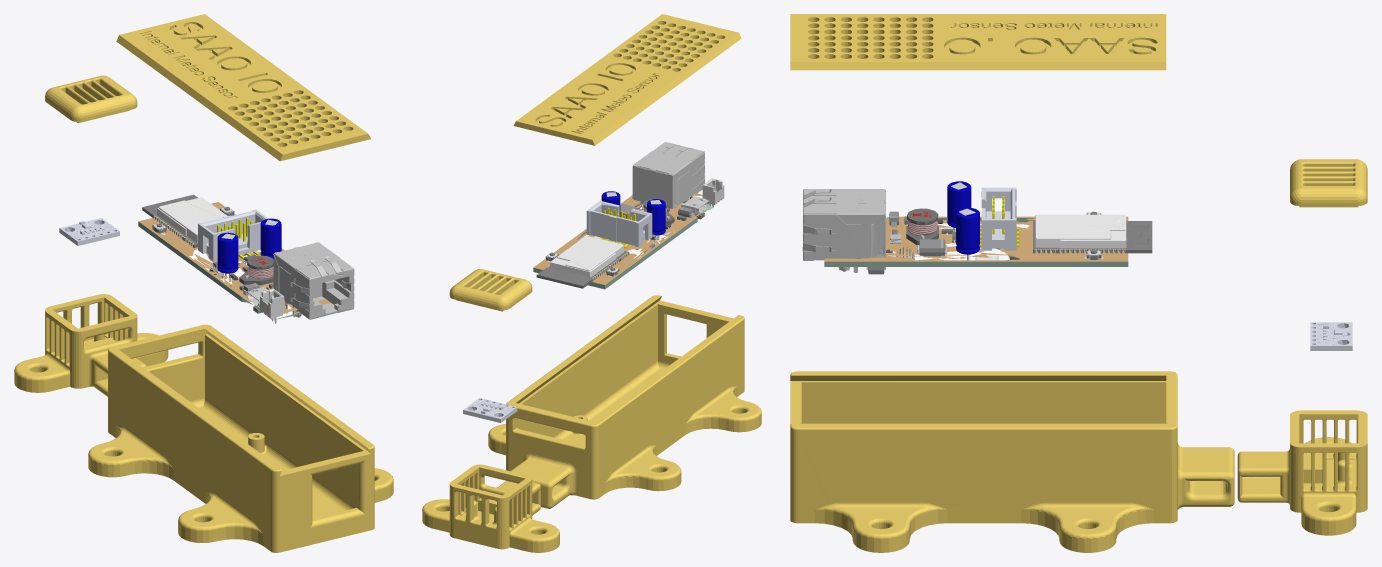
The model's file is node-exploded.glb.
The picture shows the model from 3 angles, left to right: view 1: azimuth 30°, elevation 25°; view 2: azimuth 150°, elevation 25°; view 3: azimuth 270°, elevation 25°; orthographic projection. The views are drawn at different scales.
Visible parts, largest first — view 1: Plastic_-_Matte_(Yellow), Steel_-_Satin, Opaque(202,209,238), Opaque(255,255,255), Opaque(0,0,192), Copper_-_Patina, Opaque(64,64,64), Opaque(80,124,105), Opaque(204,204,204), Opaque(51,51,51); view 2: Plastic_-_Matte_(Yellow), Steel_-_Satin, Opaque(202,209,238), Opaque(255,255,255), Copper_-_Patina, Opaque(64,64,64), Opaque(0,0,192), Opaque(80,124,105), Opaque(204,204,204); view 3: Plastic_-_Matte_(Yellow), Steel_-_Satin, Opaque(202,209,238), Opaque(255,255,255), Copper_-_Patina, Opaque(80,124,105), Opaque(0,0,192), Opaque(64,64,64), Copper_-_Patina_(1), Opaque(51,51,51), Opaque(87,86,91).
Part boxes in pixels (box(x1,y1,x2,y2)): Plastic_-_Matte_(Yellow): box(14, 14, 393, 552); Steel_-_Satin: box(273, 242, 354, 319); Opaque(202,209,238): box(59, 209, 268, 290); Opaque(255,255,255): box(157, 197, 227, 242); Opaque(0,0,192): box(217, 218, 281, 273); Copper_-_Patina: box(138, 202, 330, 312); Opaque(64,64,64): box(142, 194, 234, 247); Opaque(80,124,105): box(138, 221, 301, 320); Opaque(204,204,204): box(260, 288, 284, 323); Opaque(51,51,51): box(239, 255, 273, 285); Plastic_-_Matte_(Yellow): box(422, 14, 761, 552); Steel_-_Satin: box(632, 142, 704, 208); Opaque(202,209,238): box(463, 200, 681, 422); Opaque(255,255,255): box(550, 235, 624, 277); Copper_-_Patina: box(533, 193, 702, 284); Opaque(64,64,64): box(536, 209, 638, 288); Opaque(0,0,192): box(601, 191, 665, 235); Opaque(80,124,105): box(533, 193, 713, 289); Opaque(204,204,204): box(702, 178, 724, 209); Plastic_-_Matte_(Yellow): box(790, 14, 1367, 552); Steel_-_Satin: box(802, 189, 901, 272); Opaque(202,209,238): box(902, 187, 1352, 350); Opaque(255,255,255): box(1035, 214, 1126, 248); Copper_-_Patina: box(824, 216, 1128, 261); Opaque(80,124,105): box(824, 217, 1128, 266); Opaque(0,0,192): box(947, 181, 979, 254); Opaque(64,64,64): box(896, 211, 1152, 259); Copper_-_Patina_(1): box(886, 222, 1084, 260); Opaque(51,51,51): box(906, 208, 938, 245); Opaque(87,86,91): box(868, 211, 981, 274).
Size of the model in its own units: 0.073 by 0.1325 by 0.152.
